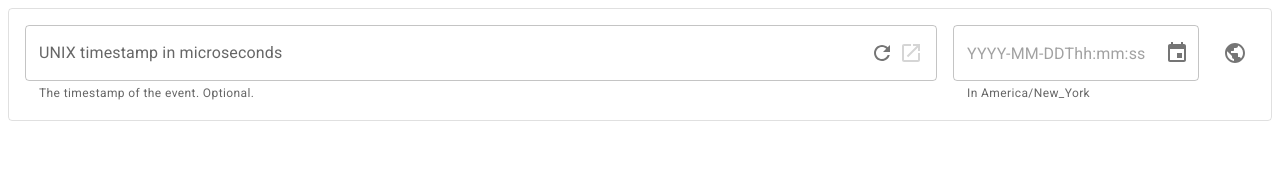
Test: TimestampPicker › initializes timezone field to user's timezone
The width and height of the screenshot is (1280, 175).
Click the button named "Select timezone". click: x=1235, y=53
box: [1215,33,1255,73]
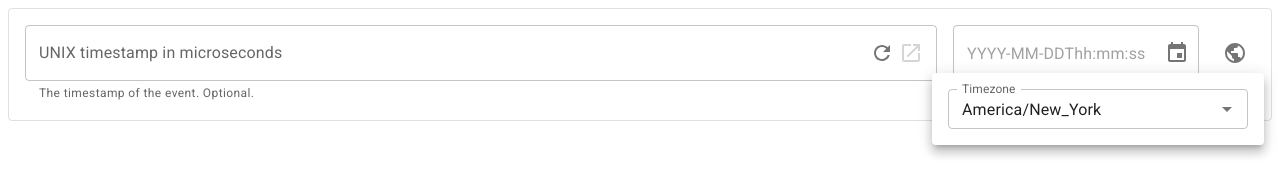
Expected: the dropdown labelled "Timezone" holds "America/New_York", [954,95,1183,123]
